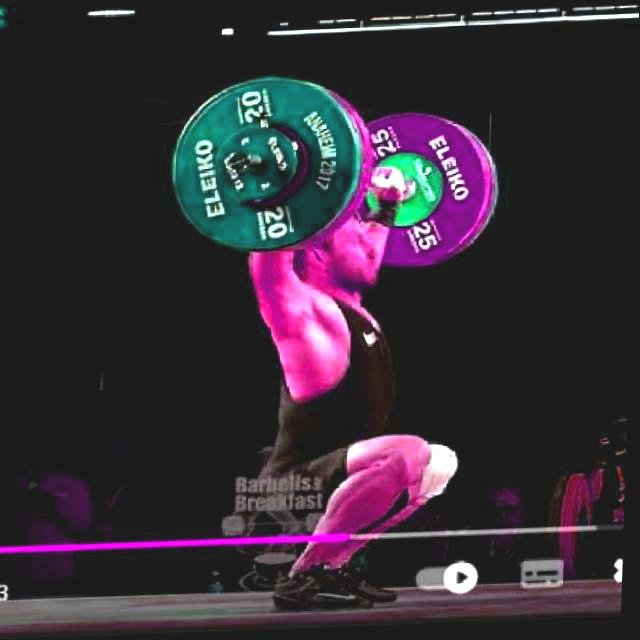barbell: (168, 70, 364, 262)
